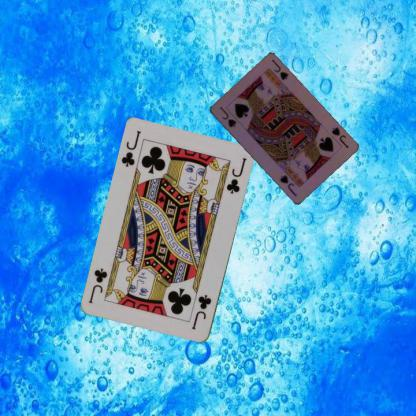Jc: (119, 128, 143, 169), (189, 292, 213, 331)
Js: (328, 124, 350, 150), (216, 103, 237, 129)
